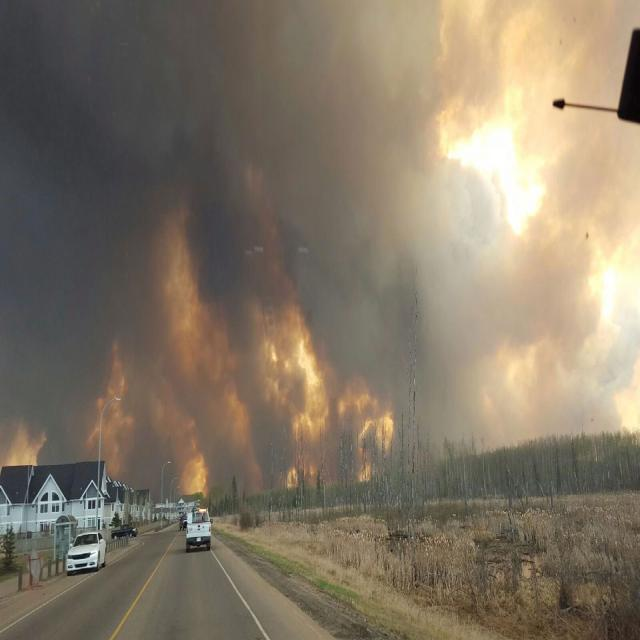Smoke: (0, 0, 630, 493)
